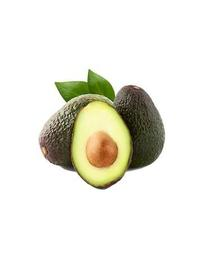avocado: (70, 100, 135, 190), (39, 95, 117, 168), (113, 84, 166, 174)
